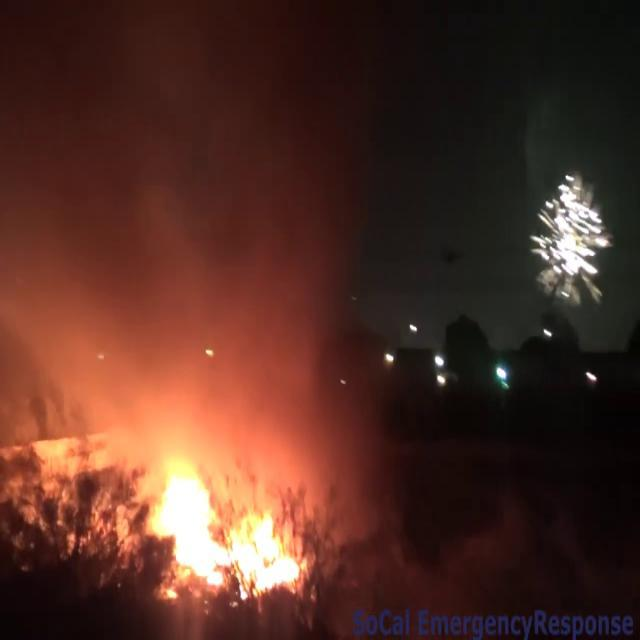Fire: (130, 442, 312, 597)
Smoke: (1, 0, 392, 472)
